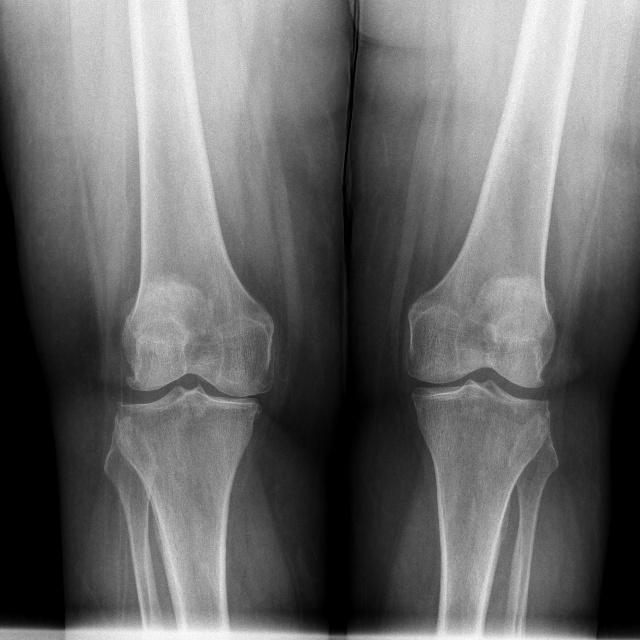Knee: (110, 300, 273, 461), (400, 301, 558, 457)
